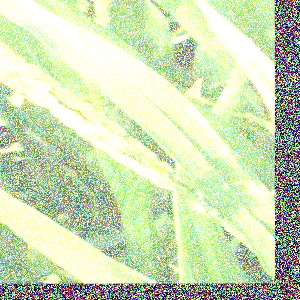Leaf_Blast: (150, 80, 268, 225)
